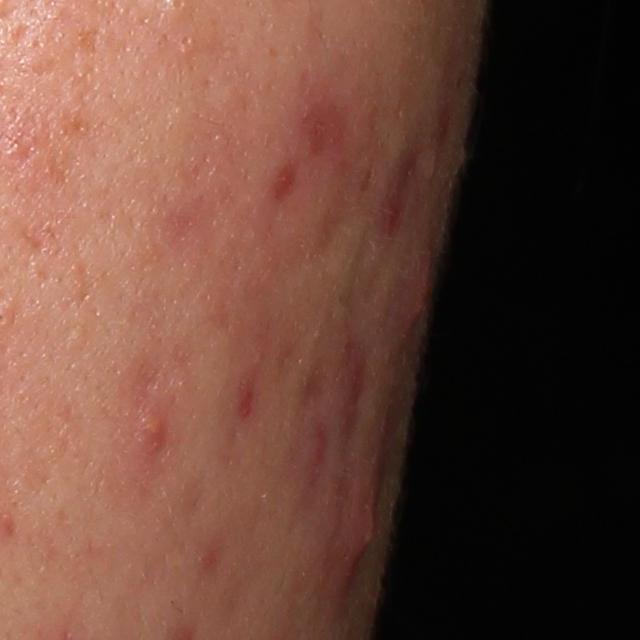papule: (339, 490, 384, 563), (400, 265, 437, 331), (135, 393, 169, 463)
